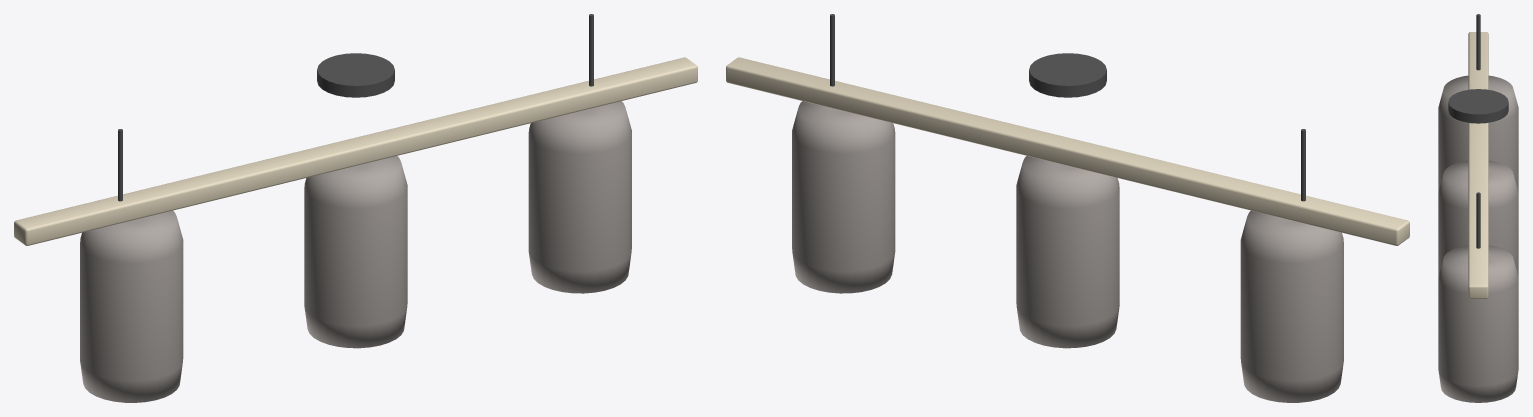
File: it_pendant_linear.glb
3 views of the same model, side by side, from view 1: azimuth 30°, elevation 25°; view 2: azimuth 150°, elevation 25°; view 3: azimuth 270°, elevation 25° (orthographic). The views are drawn at different scales.
Parts seen in each view (by area): view 1: bar, shade1, shade2, shade0, canopy; view 2: bar, shade1, shade2, shade0, canopy; view 3: shade2, shade1, bar, shade0, canopy, rod-1, rod1.
Part boxes in pixels (left/top/right/bottom): bar: left=14, top=57, right=697, bottom=245; shade1: left=304, top=156, right=407, bottom=348; shade2: left=528, top=101, right=631, bottom=293; shade0: left=80, top=210, right=183, bottom=402; canopy: left=317, top=53, right=394, bottom=97; bar: left=726, top=57, right=1409, bottom=245; shade1: left=1016, top=156, right=1119, bottom=348; shade2: left=792, top=101, right=895, bottom=293; shade0: left=1240, top=210, right=1343, bottom=402; canopy: left=1029, top=53, right=1106, bottom=97; shade2: left=1438, top=245, right=1518, bottom=402; shade1: left=1438, top=160, right=1518, bottom=276; bar: left=1468, top=32, right=1488, bottom=298; shade0: left=1438, top=75, right=1518, bottom=191; canopy: left=1448, top=89, right=1508, bottom=123; rod-1: left=1476, top=14, right=1480, bottom=70; rod1: left=1476, top=192, right=1480, bottom=248.
Bounding box in the file's own units: 1.2 × 0.44 × 0.16.
